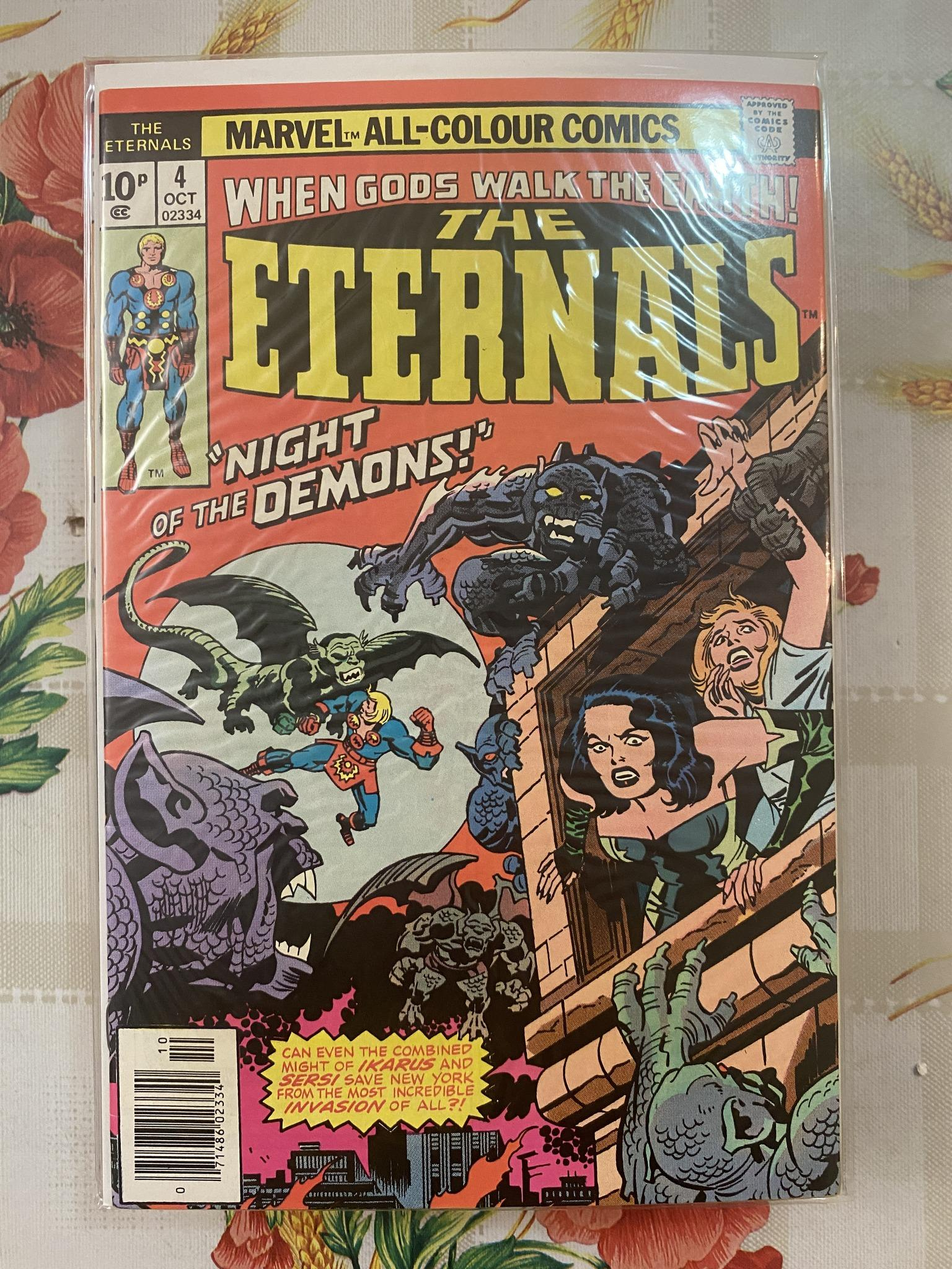comic: (84, 48, 842, 1213)
